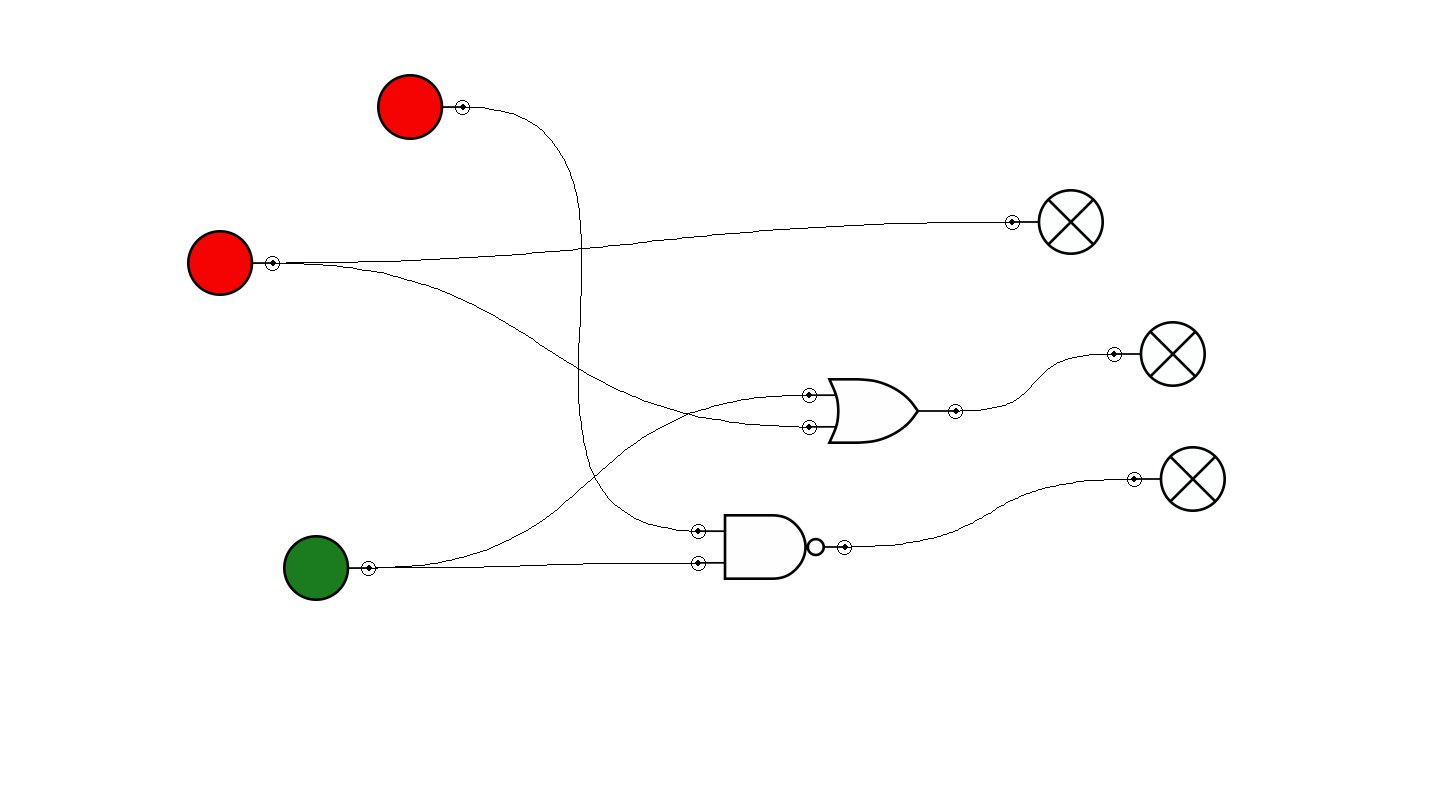bulb: (1107, 321, 1206, 387), (1005, 189, 1104, 255), (1127, 446, 1226, 512)
nand: (691, 514, 852, 580)
or: (802, 378, 963, 444)
switch_False: (187, 230, 280, 296), (377, 74, 470, 140)
switch_True: (283, 535, 376, 601)
